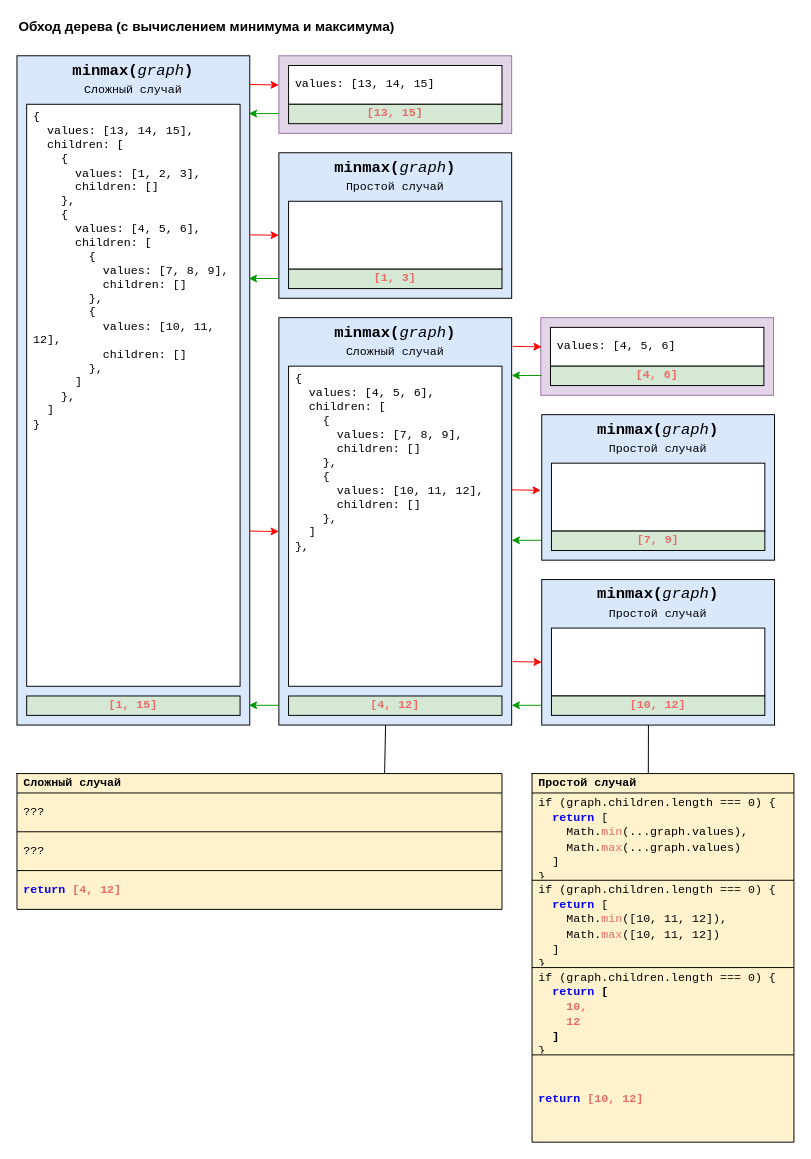
This 811x1159 diagram has some shape labels left out. Each missing label, with the box of its shape:
{ values: [1, 2, 3], children: [] },: (288, 200, 502, 269)
{ values: [10, 11, 12], children: [] },: (550, 627, 765, 696)
{ values: [7, 8, 9], children: [] },: (550, 462, 765, 531)
